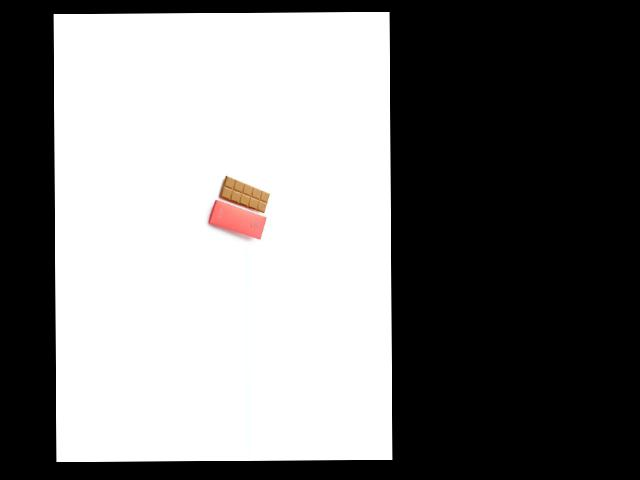chocolate: (216, 175, 270, 215)
